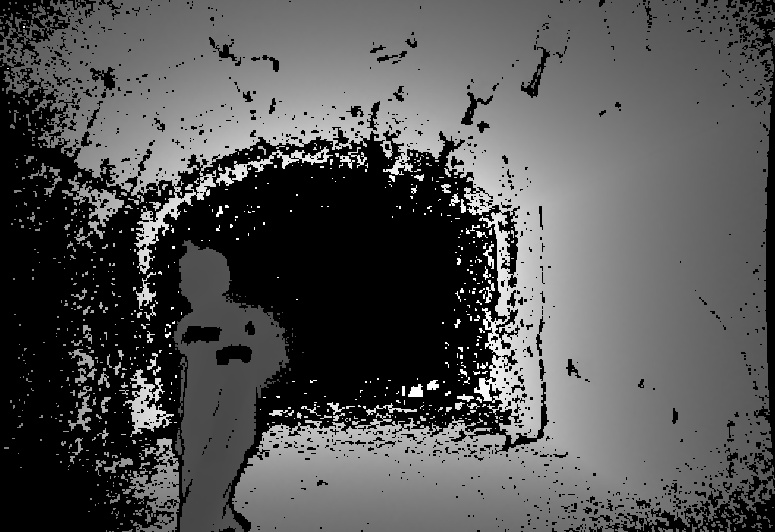person: (173, 239, 290, 532)
